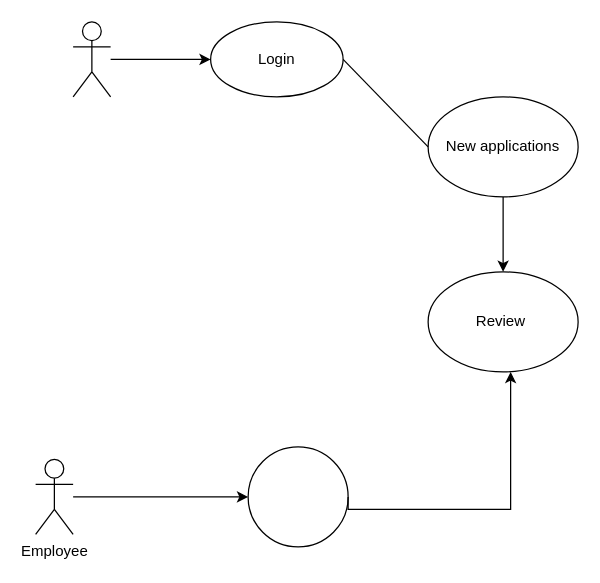
The diagram is 600 pixels wide and 583 high, and some of its shapes have lost their labels. The shapes that lost their labels are listed below. From the top down, each one's centre as x and y in pixels, then its label:
At point (91, 59): "User".
At point (297, 496): "Put in application".
